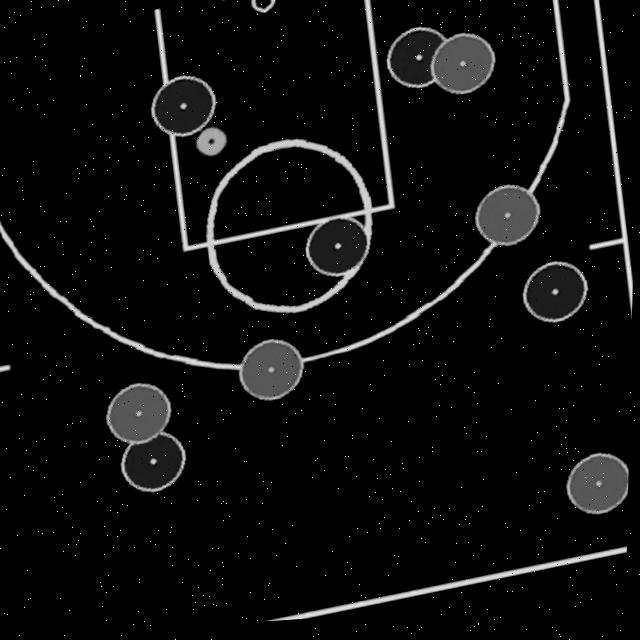Basketball: (195, 129, 231, 163)
Team_A: (524, 269, 589, 331), (387, 32, 452, 93), (308, 221, 372, 282), (152, 77, 216, 138), (121, 435, 185, 496)
Team_B: (241, 343, 306, 405), (476, 192, 541, 253), (108, 385, 173, 446), (432, 40, 496, 101), (569, 462, 631, 523)
